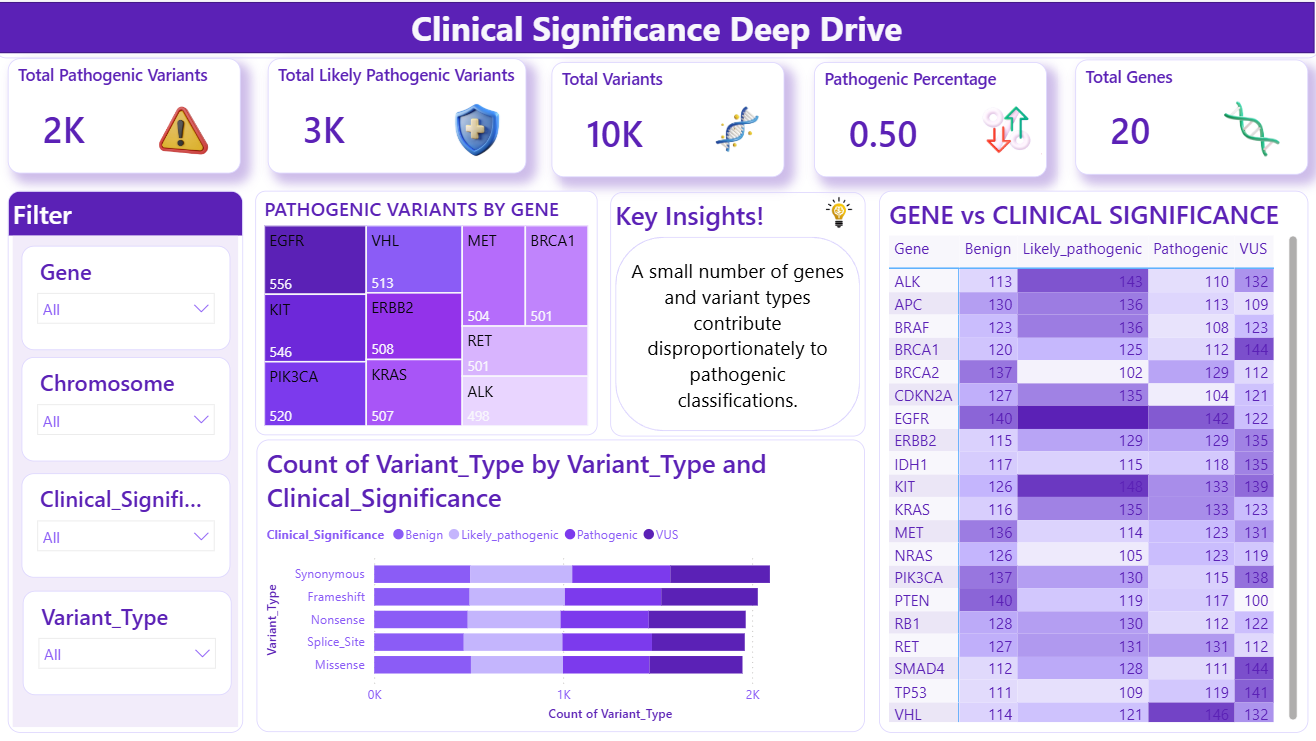

Layout of this report page (visuals, bound fields, positions):
{"tool":"powerbi","page":{"name":"Clinical Significance Deep Dive","canvas":[1280,720],"ordinal":4},"visuals":[{"type":"cardVisual","title":"Total Pathogenic Variants","fields":{"Data":["cancer_variant_prioritization_dataset.Total Pathogenic Variants"]},"box":[13,59.4,224.6,111.6],"z":0},{"type":"shape","title":"Filter","box":[13,187,227.5,523.2],"z":0,"group":"g1"},{"type":"cardVisual","title":"Total Likely Pathogenic Variants","fields":{"Data":["cancer_variant_prioritization_dataset.Total Likely Pathogenic Variants"]},"box":[263.8,59.4,249.3,111.6],"z":1000},{"type":"cardVisual","title":"Pathogenic Percentage","fields":{"Data":["cancer_variant_prioritization_dataset.Pathogenic Percentage"]},"box":[791.3,62.3,224.6,111.6],"z":2000},{"type":"cardVisual","title":"Total Genes","fields":{"Data":["cancer_variant_prioritization_dataset.Total Genes"]},"box":[1043.5,60.9,224.6,111.6],"z":3000},{"type":"cardVisual","title":"Total Variants","fields":{"Data":["cancer_variant_prioritization_dataset.Total Variants"]},"box":[537.7,62.3,224.6,111.6],"z":4000},{"type":"shape","box":[0,0,1279.7,59.4],"z":5000},{"type":"pivotTable","title":"GENE vs CLINICAL SIGNIFICANCE","fields":{"Columns":["cancer_variant_prioritization_dataset.Clinical_Significance"],"Rows":["cancer_variant_prioritization_dataset.Gene"],"Values":["cancer_variant_prioritization_dataset.Count of Variant_Type"]},"box":[853.6,187,414.5,523.2],"z":6000},{"type":"barChart","fields":{"Category":["cancer_variant_prioritization_dataset.Variant_Type"],"Series":["cancer_variant_prioritization_dataset.Clinical_Significance"],"Y":["cancer_variant_prioritization_dataset.Count of Variant_Type"]},"box":[253.6,427.5,587,282.6],"z":7000},{"type":"group","id":"g1","title":"Group 1","box":[13,187,227.5,523.2],"z":8000},{"type":"treemap","title":"PATHOGENIC VARIANTS BY GENE","fields":{"Group":["cancer_variant_prioritization_dataset.Gene"],"Values":["cancer_variant_prioritization_dataset.Count of Variant_Type"]},"box":[252.2,187,330.4,236.2],"z":9000},{"type":"slicer","fields":{"Values":["cancer_variant_prioritization_dataset.Gene"]},"box":[26,240.5,201.4,101],"z":9000,"group":"g1"},{"type":"shape","title":"Key Insights!","box":[594.2,188.4,246.4,236.2],"z":10000},{"type":"slicer","fields":{"Values":["cancer_variant_prioritization_dataset.Chromosome"]},"box":[26,347.6,201.4,101],"z":10000,"group":"g1"},{"type":"image","box":[789,187,51.9,42.2],"z":11000},{"type":"slicer","fields":{"Values":["cancer_variant_prioritization_dataset.Variant_Type"]},"box":[27.5,572.5,201.4,101],"z":11000,"group":"g1"},{"type":"image","box":[144.8,100.1,74.8,54.3],"z":12000},{"type":"slicer","fields":{"Values":["cancer_variant_prioritization_dataset.Clinical_Significance"]},"box":[26,459.3,201.4,101],"z":12000,"group":"g1"},{"type":"image","box":[1176.3,100.1,74.8,54.3],"z":13000},{"type":"image","box":[941,100.1,74.8,54.3],"z":14000},{"type":"image","box":[680.4,100.1,74.8,54.3],"z":15000},{"type":"image","box":[428.3,100.1,74.8,54.3],"z":16000}]}

Visuals, with their boxes in screenshot pixels (x1, y1, x2, y2), scaled from the page's 1280x720 canvas onto the 1316x741 screenshot:
"Total Pathogenic Variants" cardVisual: <bbox>13, 61, 244, 176</bbox>
"Filter" shape: <bbox>13, 192, 247, 731</bbox>
"Total Likely Pathogenic Variants" cardVisual: <bbox>271, 61, 528, 176</bbox>
"Pathogenic Percentage" cardVisual: <bbox>814, 64, 1044, 179</bbox>
"Total Genes" cardVisual: <bbox>1073, 63, 1304, 178</bbox>
"Total Variants" cardVisual: <bbox>553, 64, 784, 179</bbox>
shape: <bbox>0, 0, 1315, 61</bbox>
"GENE vs CLINICAL SIGNIFICANCE" pivotTable: <bbox>878, 192, 1304, 731</bbox>
barChart - cancer_variant_prioritization_dataset.Variant_Type x cancer_variant_prioritization_dataset.Clinical_Significance: <bbox>261, 440, 864, 731</bbox>
"Group 1" group: <bbox>13, 192, 247, 731</bbox>
"PATHOGENIC VARIANTS BY GENE" treemap: <bbox>259, 192, 599, 436</bbox>
slicer - cancer_variant_prioritization_dataset.Gene: <bbox>27, 248, 234, 351</bbox>
"Key Insights!" shape: <bbox>611, 194, 864, 437</bbox>
slicer - cancer_variant_prioritization_dataset.Chromosome: <bbox>27, 358, 234, 462</bbox>
image: <bbox>811, 192, 865, 236</bbox>
slicer - cancer_variant_prioritization_dataset.Variant_Type: <bbox>28, 589, 235, 693</bbox>
image: <bbox>149, 103, 226, 159</bbox>
slicer - cancer_variant_prioritization_dataset.Clinical_Significance: <bbox>27, 473, 234, 577</bbox>
image: <bbox>1209, 103, 1286, 159</bbox>
image: <bbox>967, 103, 1044, 159</bbox>
image: <bbox>700, 103, 776, 159</bbox>
image: <bbox>440, 103, 517, 159</bbox>
